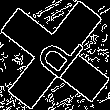P_SW: (25, 24, 85, 86)
